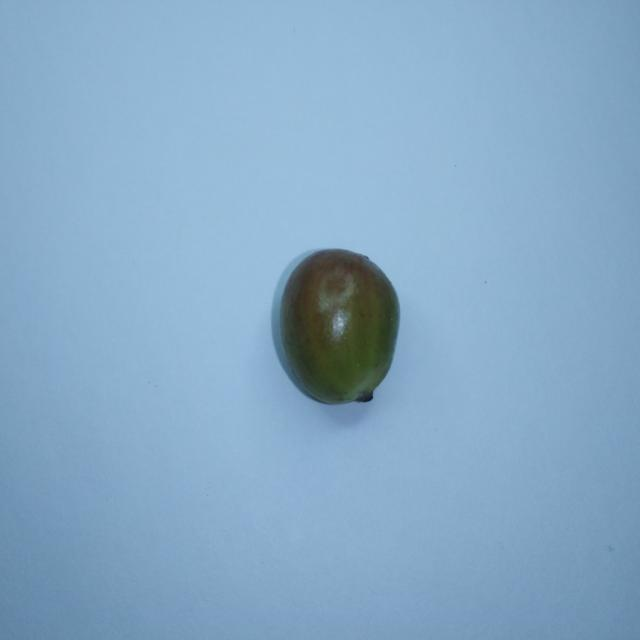Sano: (272, 249, 398, 404)
